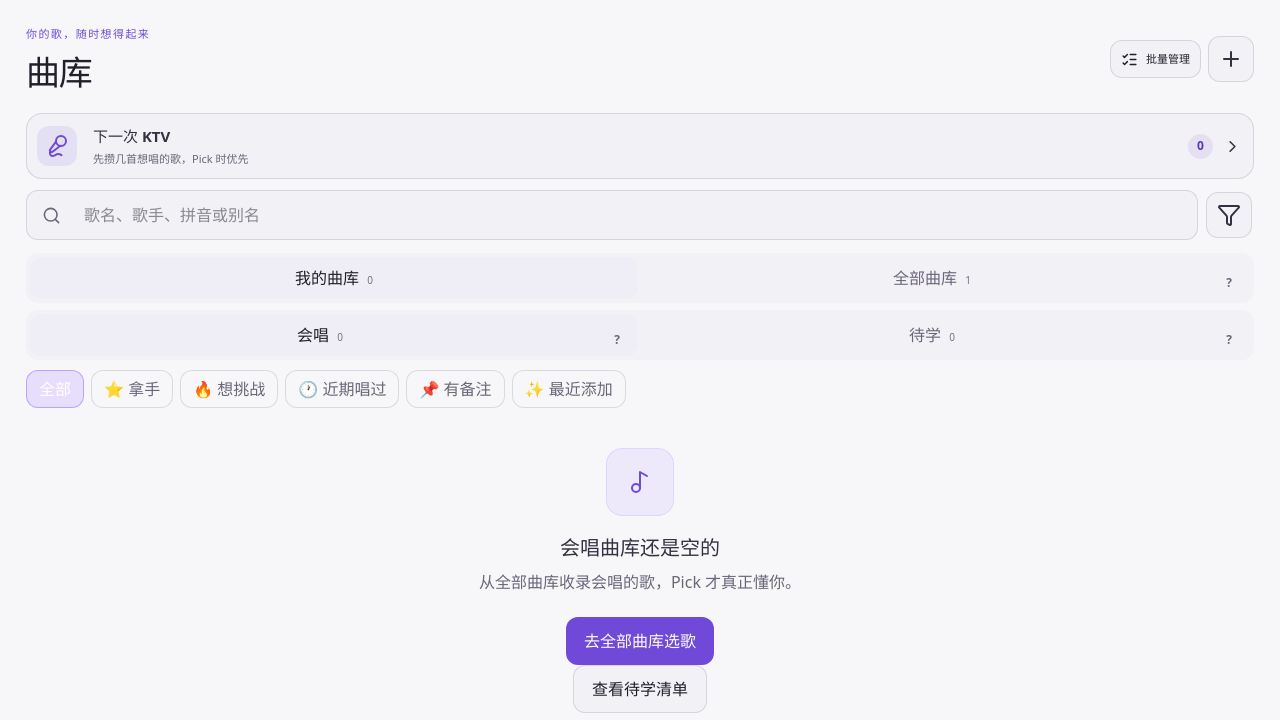
Test: 移动端曲库标签 › 会唱曲库为空时可以直接进入全部曲库
Click the button "去全部曲库选歌": (640, 641) [566, 617, 714, 665]
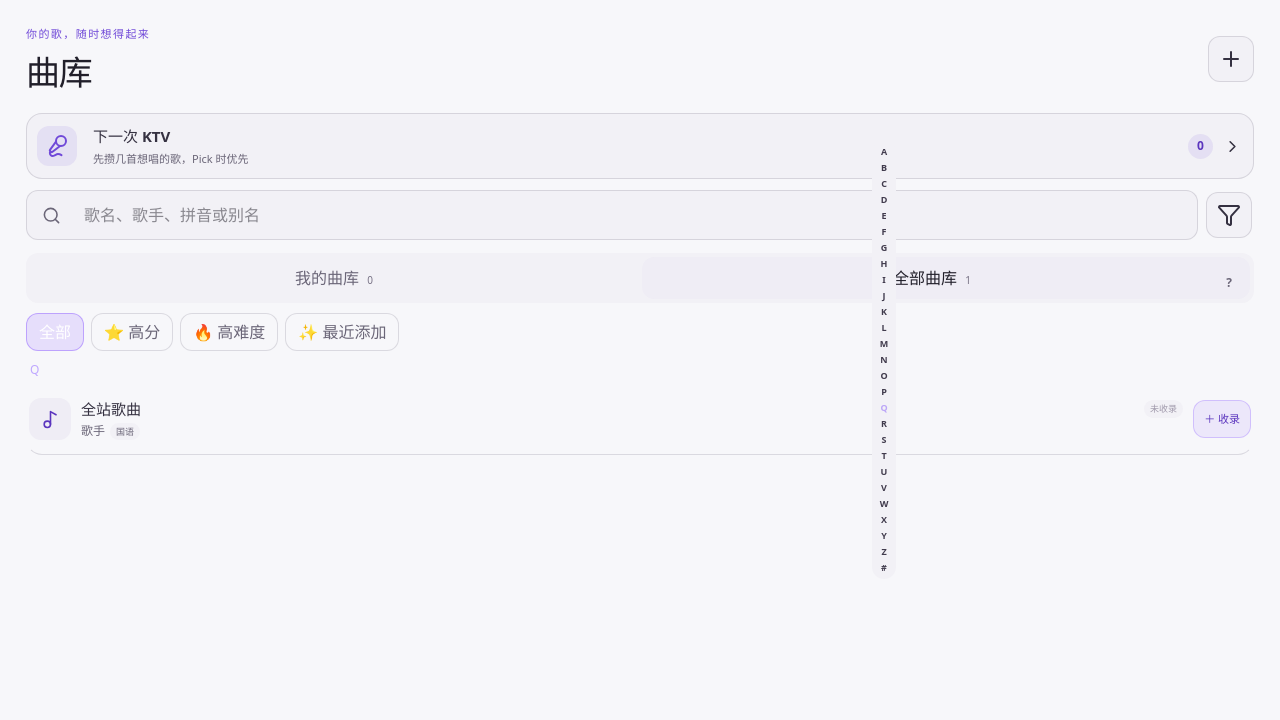
Now the button with aria-label "查看全站歌曲详情" is shown, box [29, 398, 1183, 440]
